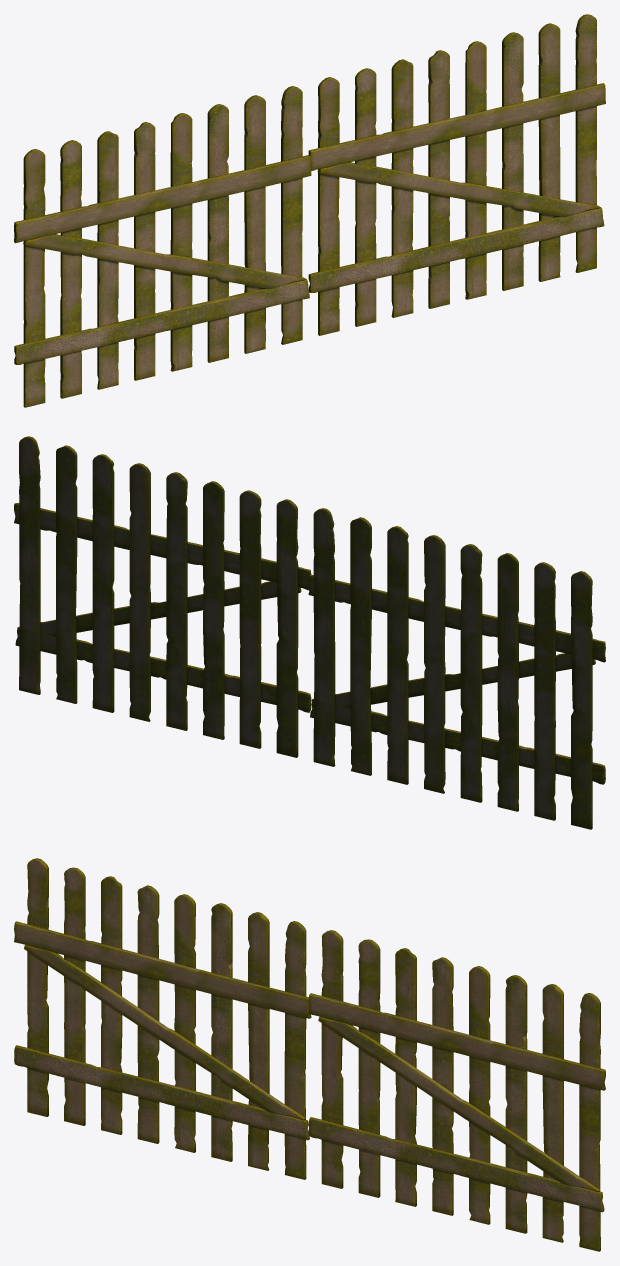
The model's file is Fence.obj.
3 renders of one model, top to bottom at view 1: azimuth 30°, elevation 25°; view 2: azimuth 150°, elevation 25°; view 3: azimuth 330°, elevation 25°, orthographic.
Visible parts, largest first — view 1: default; view 2: default; view 3: default.
Boxes of the visible parts, box(x1,y1,x2,y2) form: default: box(14, 14, 605, 407); default: box(14, 436, 605, 829); default: box(14, 858, 605, 1251).
Bounding box in the file's own units: 1.15 × 0.4762 × 0.0133.
